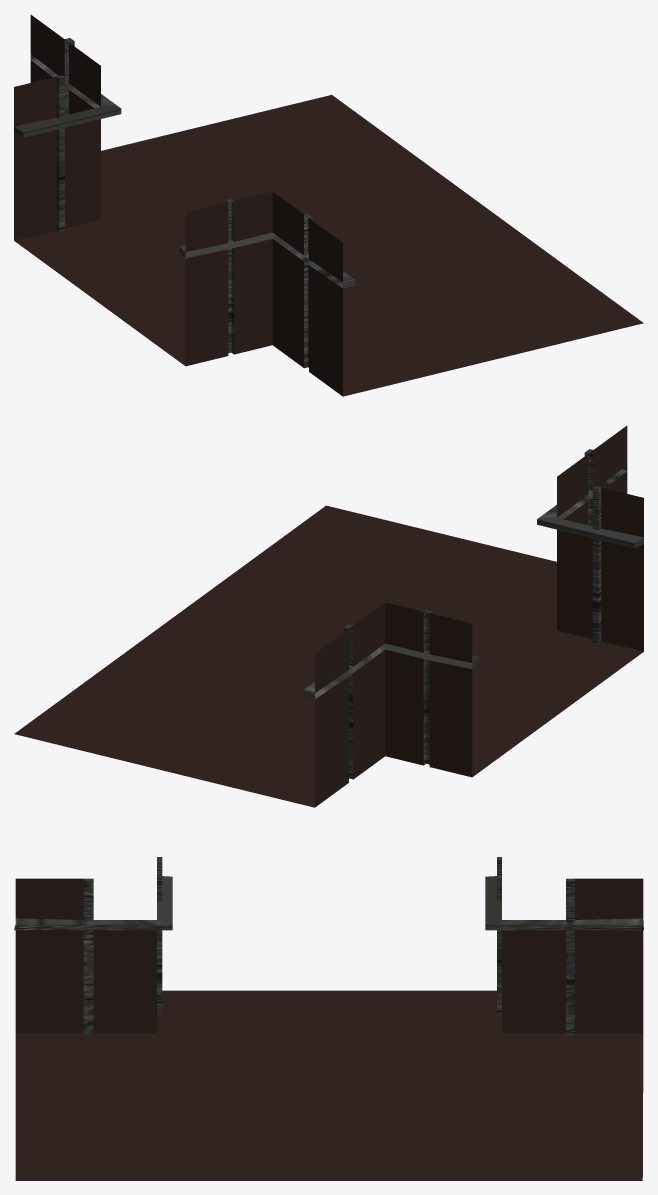
Rendered from T - hallway.fbx.
3 renders of one model, top to bottom at view 1: azimuth 30°, elevation 25°; view 2: azimuth 150°, elevation 25°; view 3: azimuth 270°, elevation 25°, orthographic.
Parts seen in each view (by area): view 1: crosssection hallway.001; view 2: crosssection hallway.001; view 3: crosssection hallway.001.
Part boxes in pixels (left/top/right/bottom): crosssection hallway.001: left=14, top=14, right=643, bottom=396; crosssection hallway.001: left=14, top=425, right=643, bottom=807; crosssection hallway.001: left=14, top=857, right=643, bottom=1180.
Size of the model in its own units: 104 by 39.32 by 145.
